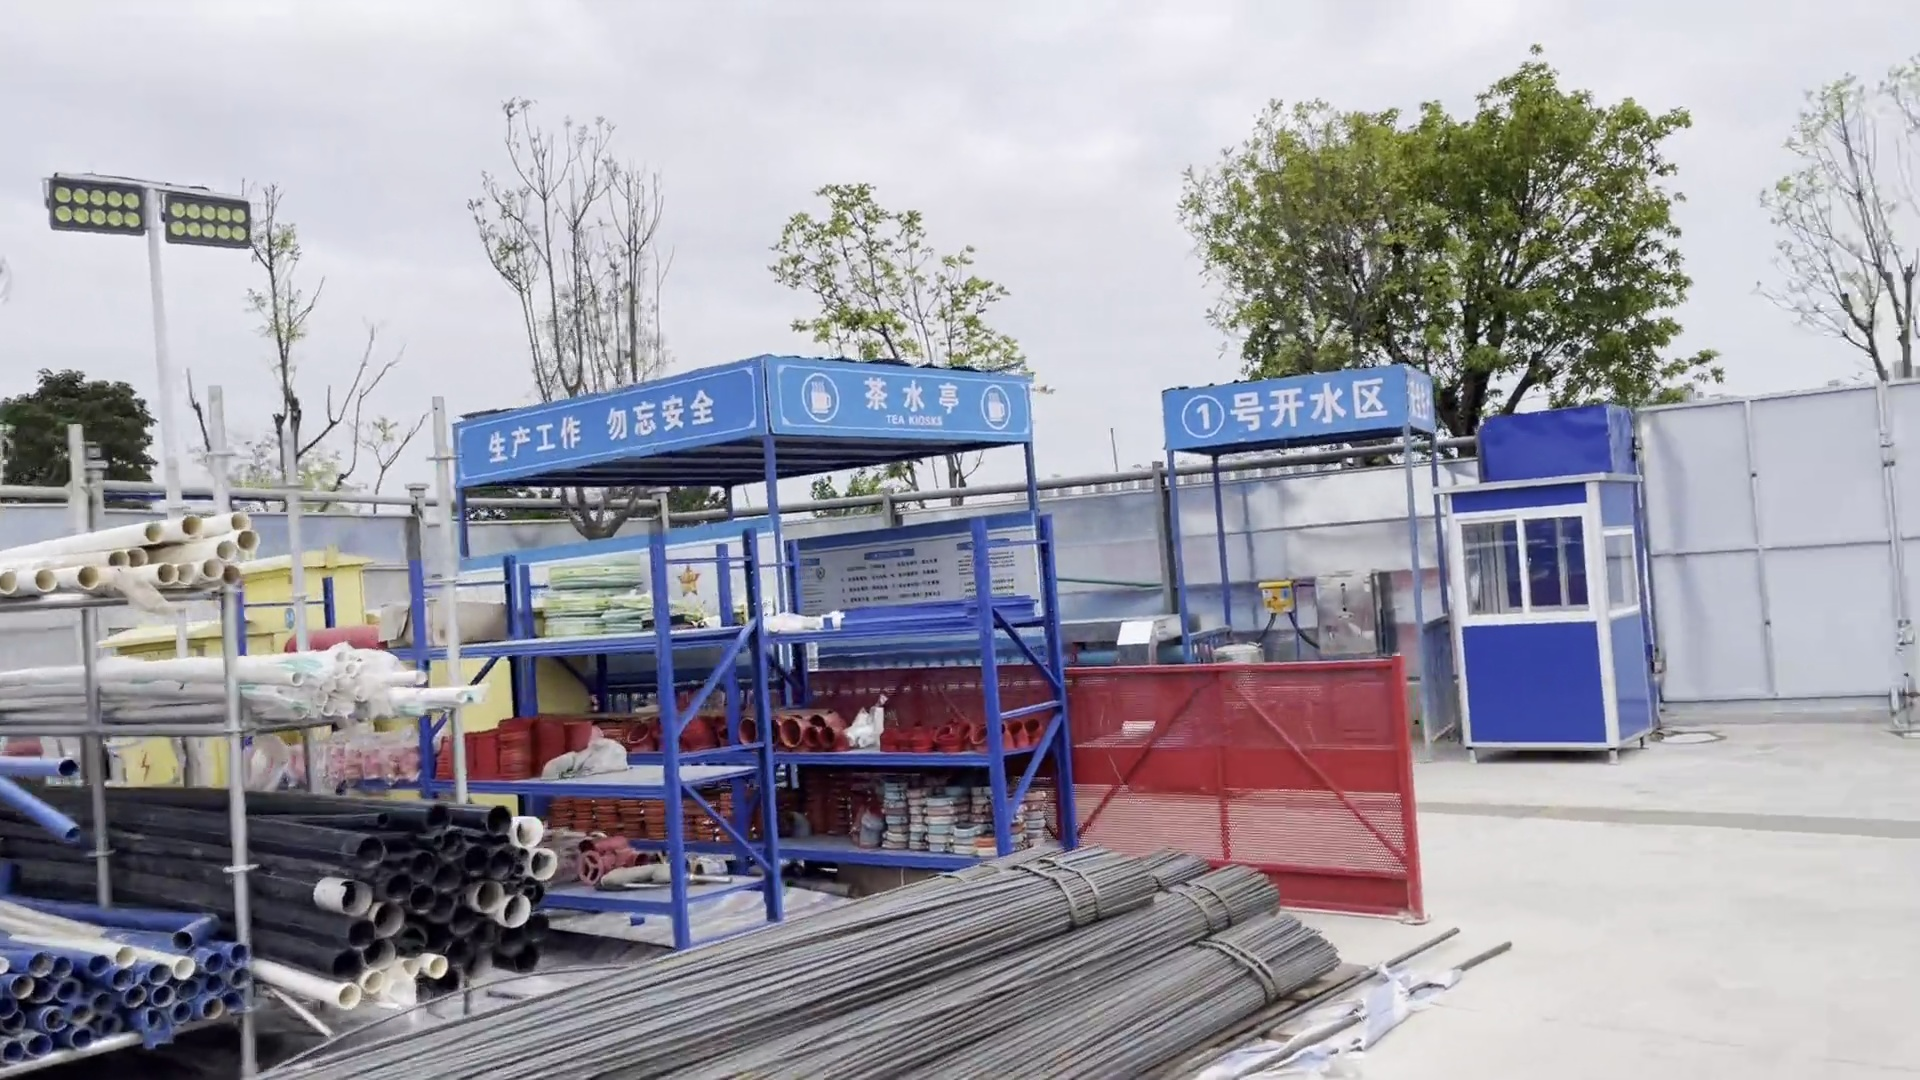ebox: (1255, 578, 1300, 617)
fence: (1054, 655, 1440, 927)
rebar: (621, 839, 1352, 1080), (244, 975, 678, 1080)
slogan: (448, 349, 1042, 516), (781, 509, 1084, 624), (1131, 355, 1451, 462), (632, 526, 787, 616)
